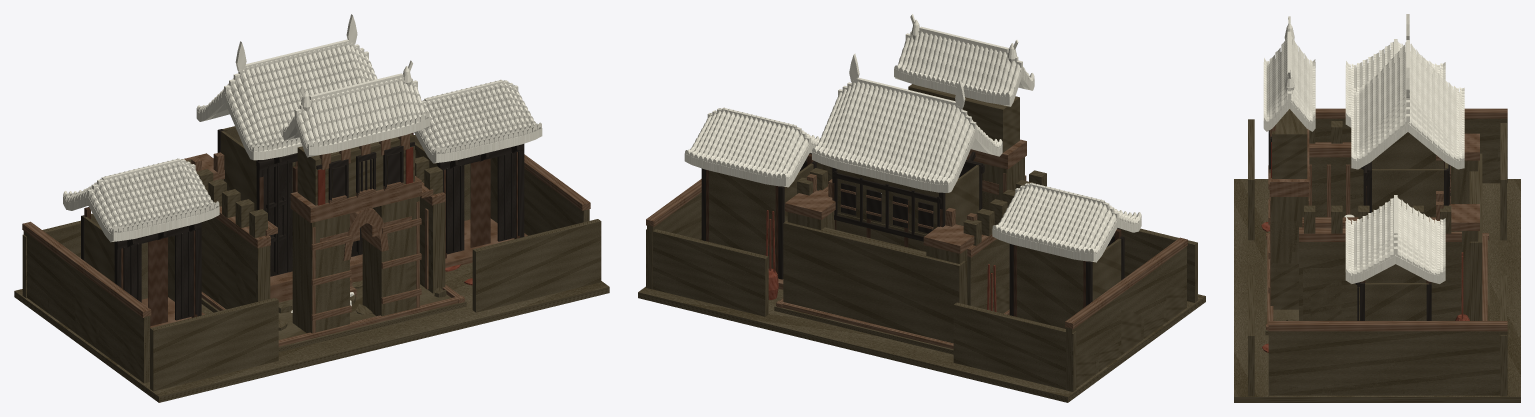
3 renders of one model, left to right at view 1: azimuth 30°, elevation 25°; view 2: azimuth 150°, elevation 25°; view 3: azimuth 270°, elevation 25°, orthographic. The views are drawn at different scales.
Visible parts, largest first — view 1: garrison_part_0001, garrison_part_0005, garrison_part_0004, garrison_part_0006, garrison_part_0003, garrison_part_0000, garrison_part_0002; view 2: garrison_part_0006, garrison_part_0004, garrison_part_0001, garrison_part_0005, garrison_part_0000, garrison_part_0003, garrison_part_0002; view 3: garrison_part_0001, garrison_part_0004, garrison_part_0006, garrison_part_0000, garrison_part_0005, garrison_part_0003, garrison_part_0002.
Boxes of the visible parts, x1,y1,x2,y2 form: garrison_part_0001: (72,40,589,391); garrison_part_0005: (63,42,601,382); garrison_part_0004: (22,39,590,333); garrison_part_0006: (22,14,542,326); garrison_part_0003: (23,132,588,383); garrison_part_0000: (14,218,609,402); garrison_part_0002: (28,223,563,382); garrison_part_0006: (646,28,1187,343); garrison_part_0004: (646,14,1138,391); garrison_part_0001: (647,26,1197,328); garrison_part_0005: (685,29,1186,390); garrison_part_0000: (638,278,1205,402); garrison_part_0003: (647,154,1186,391); garrison_part_0002: (996,286,1186,388); garrison_part_0001: (1248,16,1507,395); garrison_part_0004: (1264,38,1507,331); garrison_part_0006: (1264,14,1507,396); garrison_part_0000: (1234,179,1520,402); garrison_part_0005: (1248,31,1507,396); garrison_part_0003: (1269,118,1507,395); garrison_part_0002: (1270,149,1497,395).
Size of the model in its own units: 1690 by 916 by 940.
